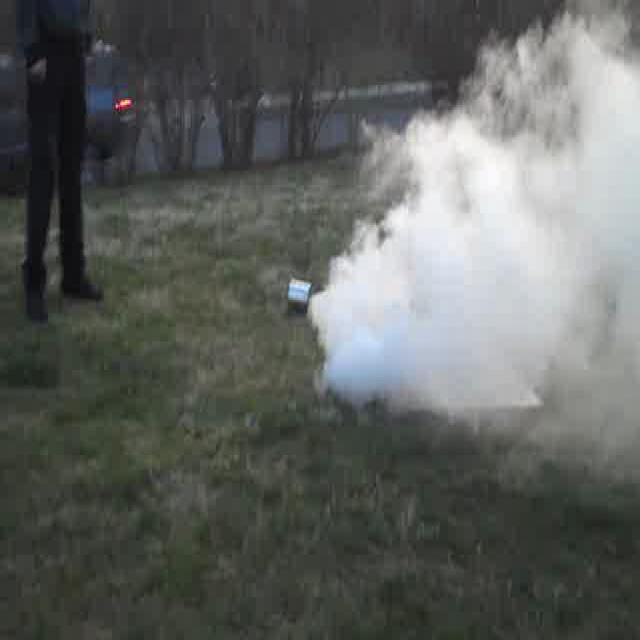Smoke: (339, 136, 629, 416)
